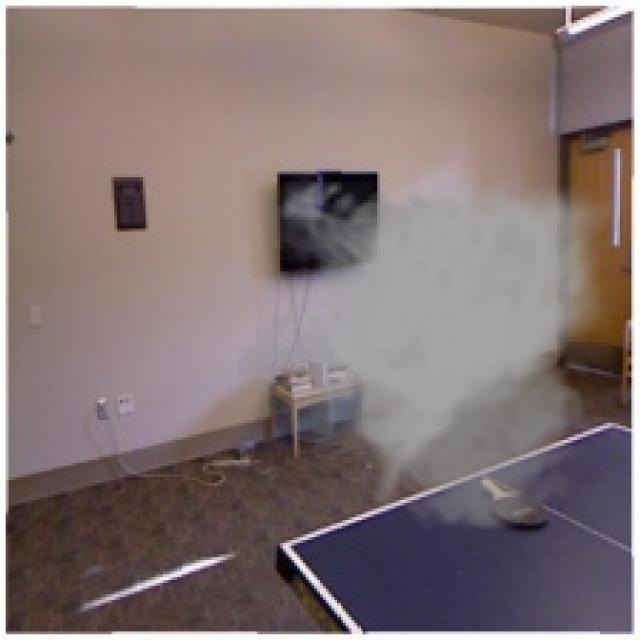Smoke: (237, 168, 617, 534)
